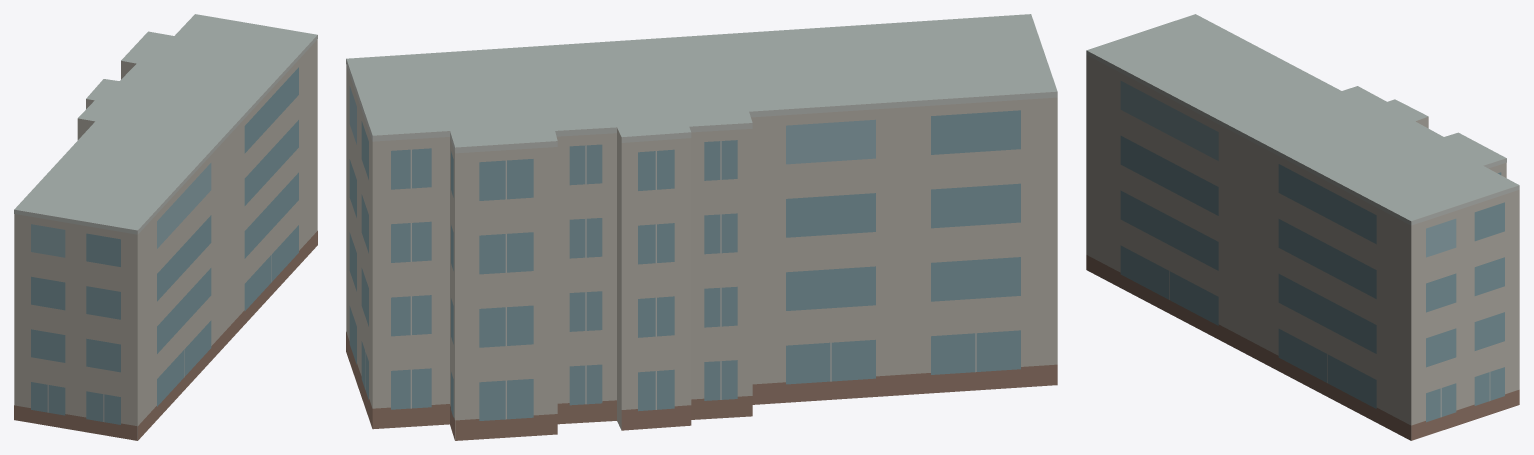
The model's file is survey-upis-32529314.glb.
3 renders of one model, left to right at view 1: azimuth 30°, elevation 25°; view 2: azimuth 150°, elevation 25°; view 3: azimuth 270°, elevation 25°, orthographic. The views are drawn at different scales.
Parts seen in each view (by area): view 1: survey-upis-32529314.tmp; view 2: survey-upis-32529314.tmp; view 3: survey-upis-32529314.tmp.
Boxes of the visible parts, bbox=[...] form: survey-upis-32529314.tmp: bbox=[14, 14, 317, 440]; survey-upis-32529314.tmp: bbox=[346, 14, 1057, 440]; survey-upis-32529314.tmp: bbox=[1086, 14, 1519, 440].
Size of the model in its own units: 24.7 by 12.2 by 21.82.
